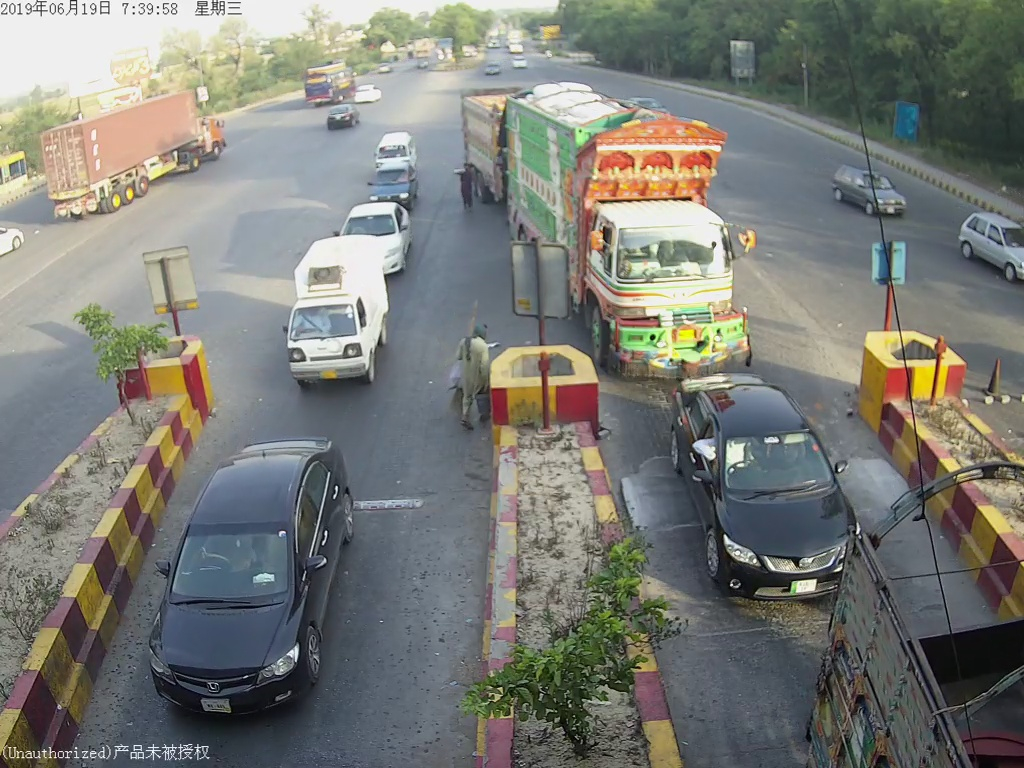Cat-1: (151, 439, 358, 720), (670, 383, 846, 603), (278, 237, 397, 390)
Cat-4: (509, 92, 761, 368)
